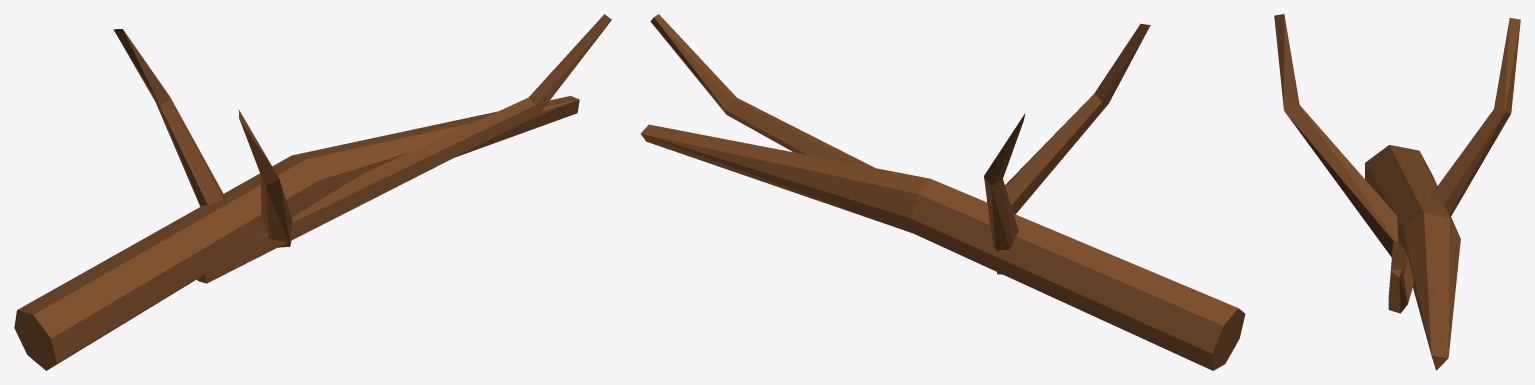
The model's file is aq_driftwood.fbx.
3 renders of one model, left to right at view 1: azimuth 30°, elevation 25°; view 2: azimuth 150°, elevation 25°; view 3: azimuth 270°, elevation 25°, orthographic. The views are drawn at different scales.
Visible parts, largest first — view 1: aq_driftwood; view 2: aq_driftwood; view 3: aq_driftwood.
Boxes of the visible parts, <box> form: aq_driftwood: <box>14,14,611,370</box>; aq_driftwood: <box>640,14,1245,370</box>; aq_driftwood: <box>1274,14,1520,370</box>.
Size of the model in its own units: 1.6 by 0.7 by 0.6.
